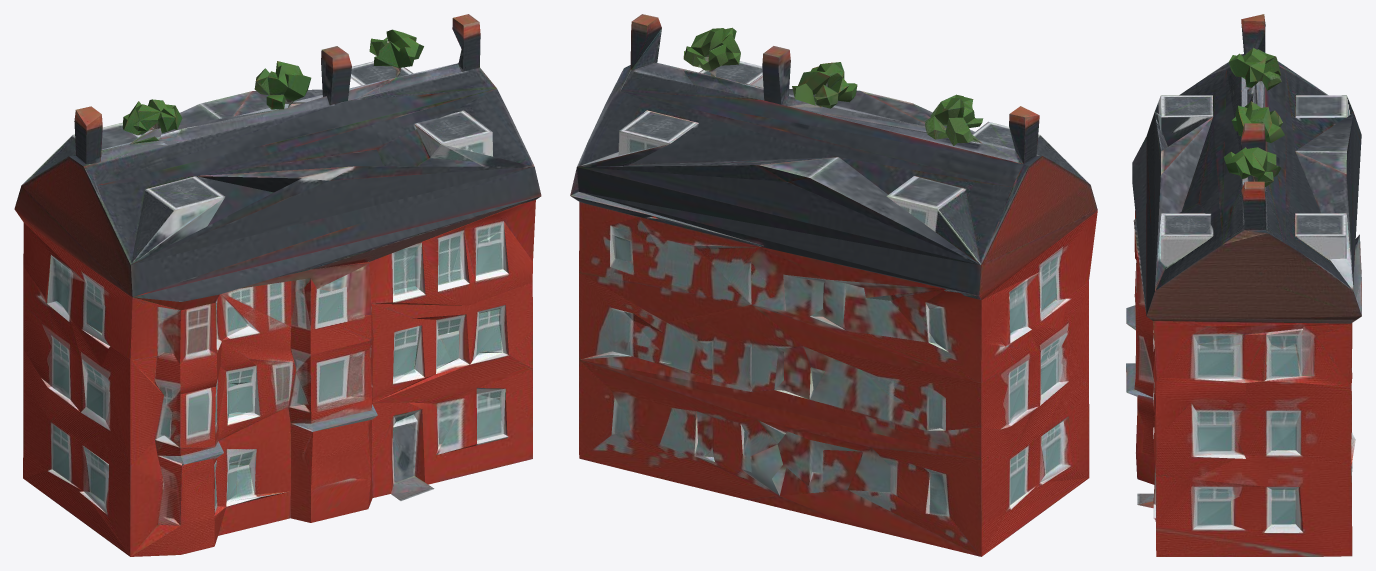
The model's file is farBlockA.glb.
3 renders of one model, left to right at view 1: azimuth 30°, elevation 25°; view 2: azimuth 150°, elevation 25°; view 3: azimuth 270°, elevation 25°, orthographic. The views are drawn at different scales.
Bounding box in the file's own units: 1.9 × 1.82 × 1.04.
Materials: 1 (1 with a texture image).
